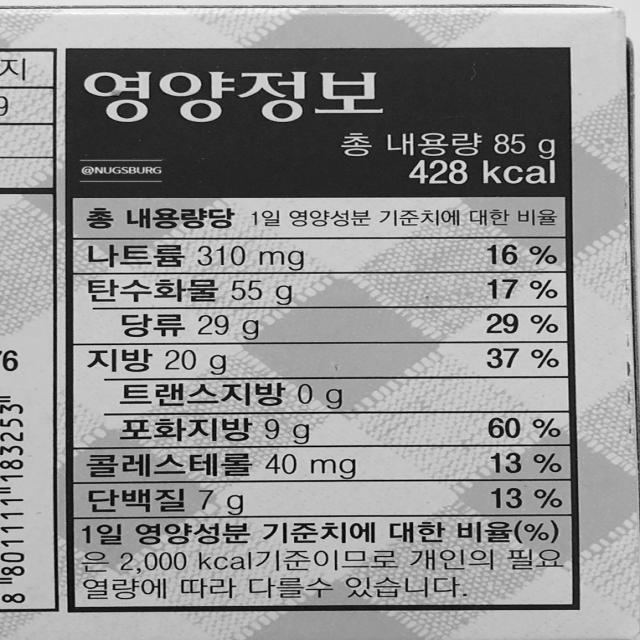Nutrition Label: (42, 35, 601, 625)
